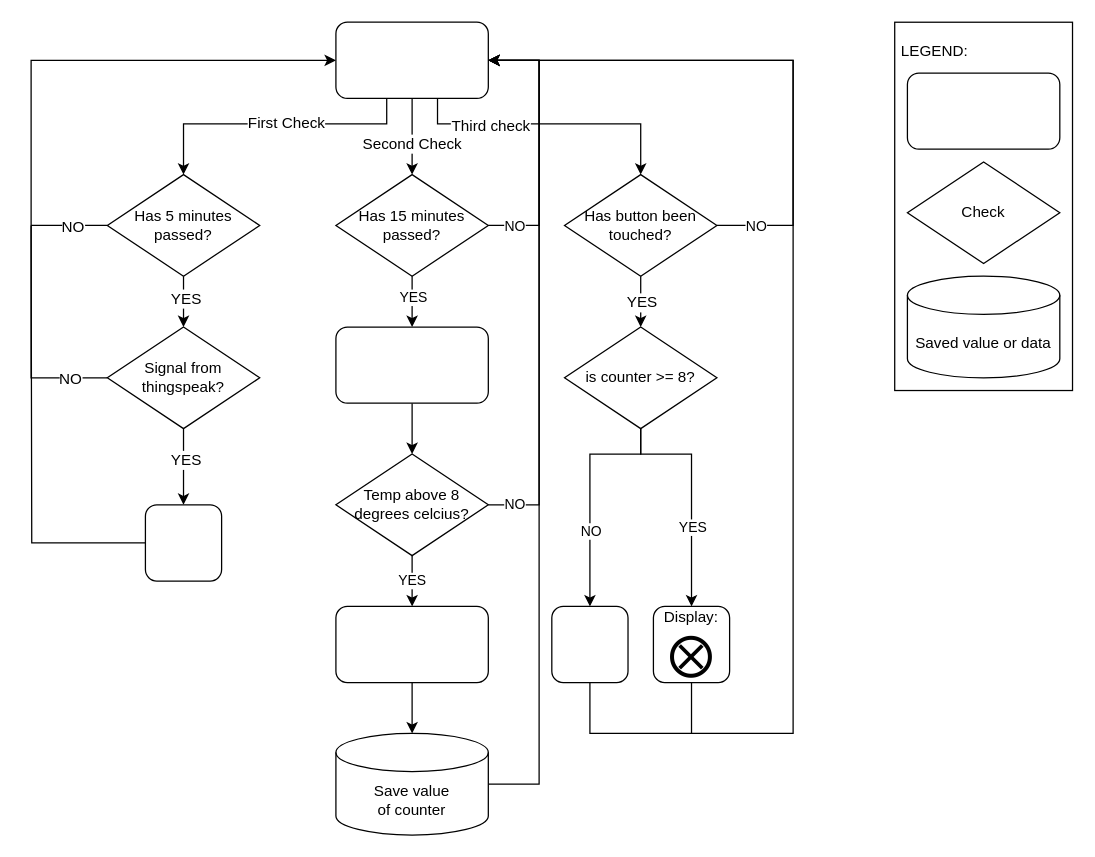
The diagram is 1095 pixels wide and 857 high, and some of its shapes have lost their labels. Here are the shapes that lost their labels. From the top down, the centre of each, then its label:
At point 411,59: "Main loop()".
At point 983,110: "Process or function".
At point 411,364: "Measure Temperature and send to thingspeak".
At point 183,542: "Display: ♥︎".
At point 411,644: "Increment counter".
At point 589,644: "Display: ☺︎".
